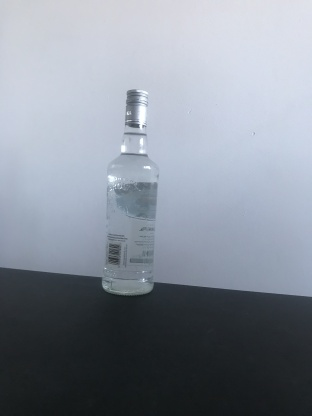nakretka: (123, 87, 149, 128)
